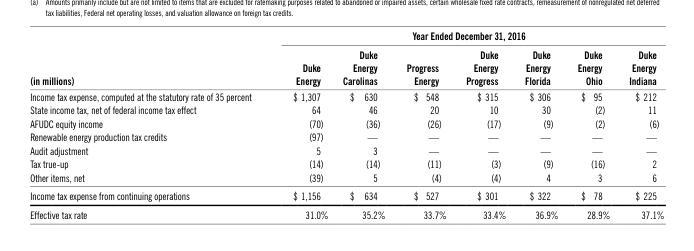table: (29, 29, 663, 220)
table column: (29, 29, 271, 220), (271, 29, 334, 220), (334, 29, 395, 220), (395, 29, 455, 220), (455, 29, 514, 220), (514, 29, 567, 220), (567, 29, 618, 220), (618, 29, 663, 220)
table column header: (29, 29, 663, 87)
table row: (29, 44, 663, 87), (29, 186, 663, 204), (29, 170, 663, 186), (29, 204, 663, 220), (29, 29, 663, 44), (29, 87, 663, 102), (29, 102, 663, 116), (29, 129, 663, 143), (29, 156, 663, 170), (29, 116, 663, 129), (29, 143, 663, 156)
table spanning cell: (29, 29, 271, 87), (271, 29, 663, 44)
